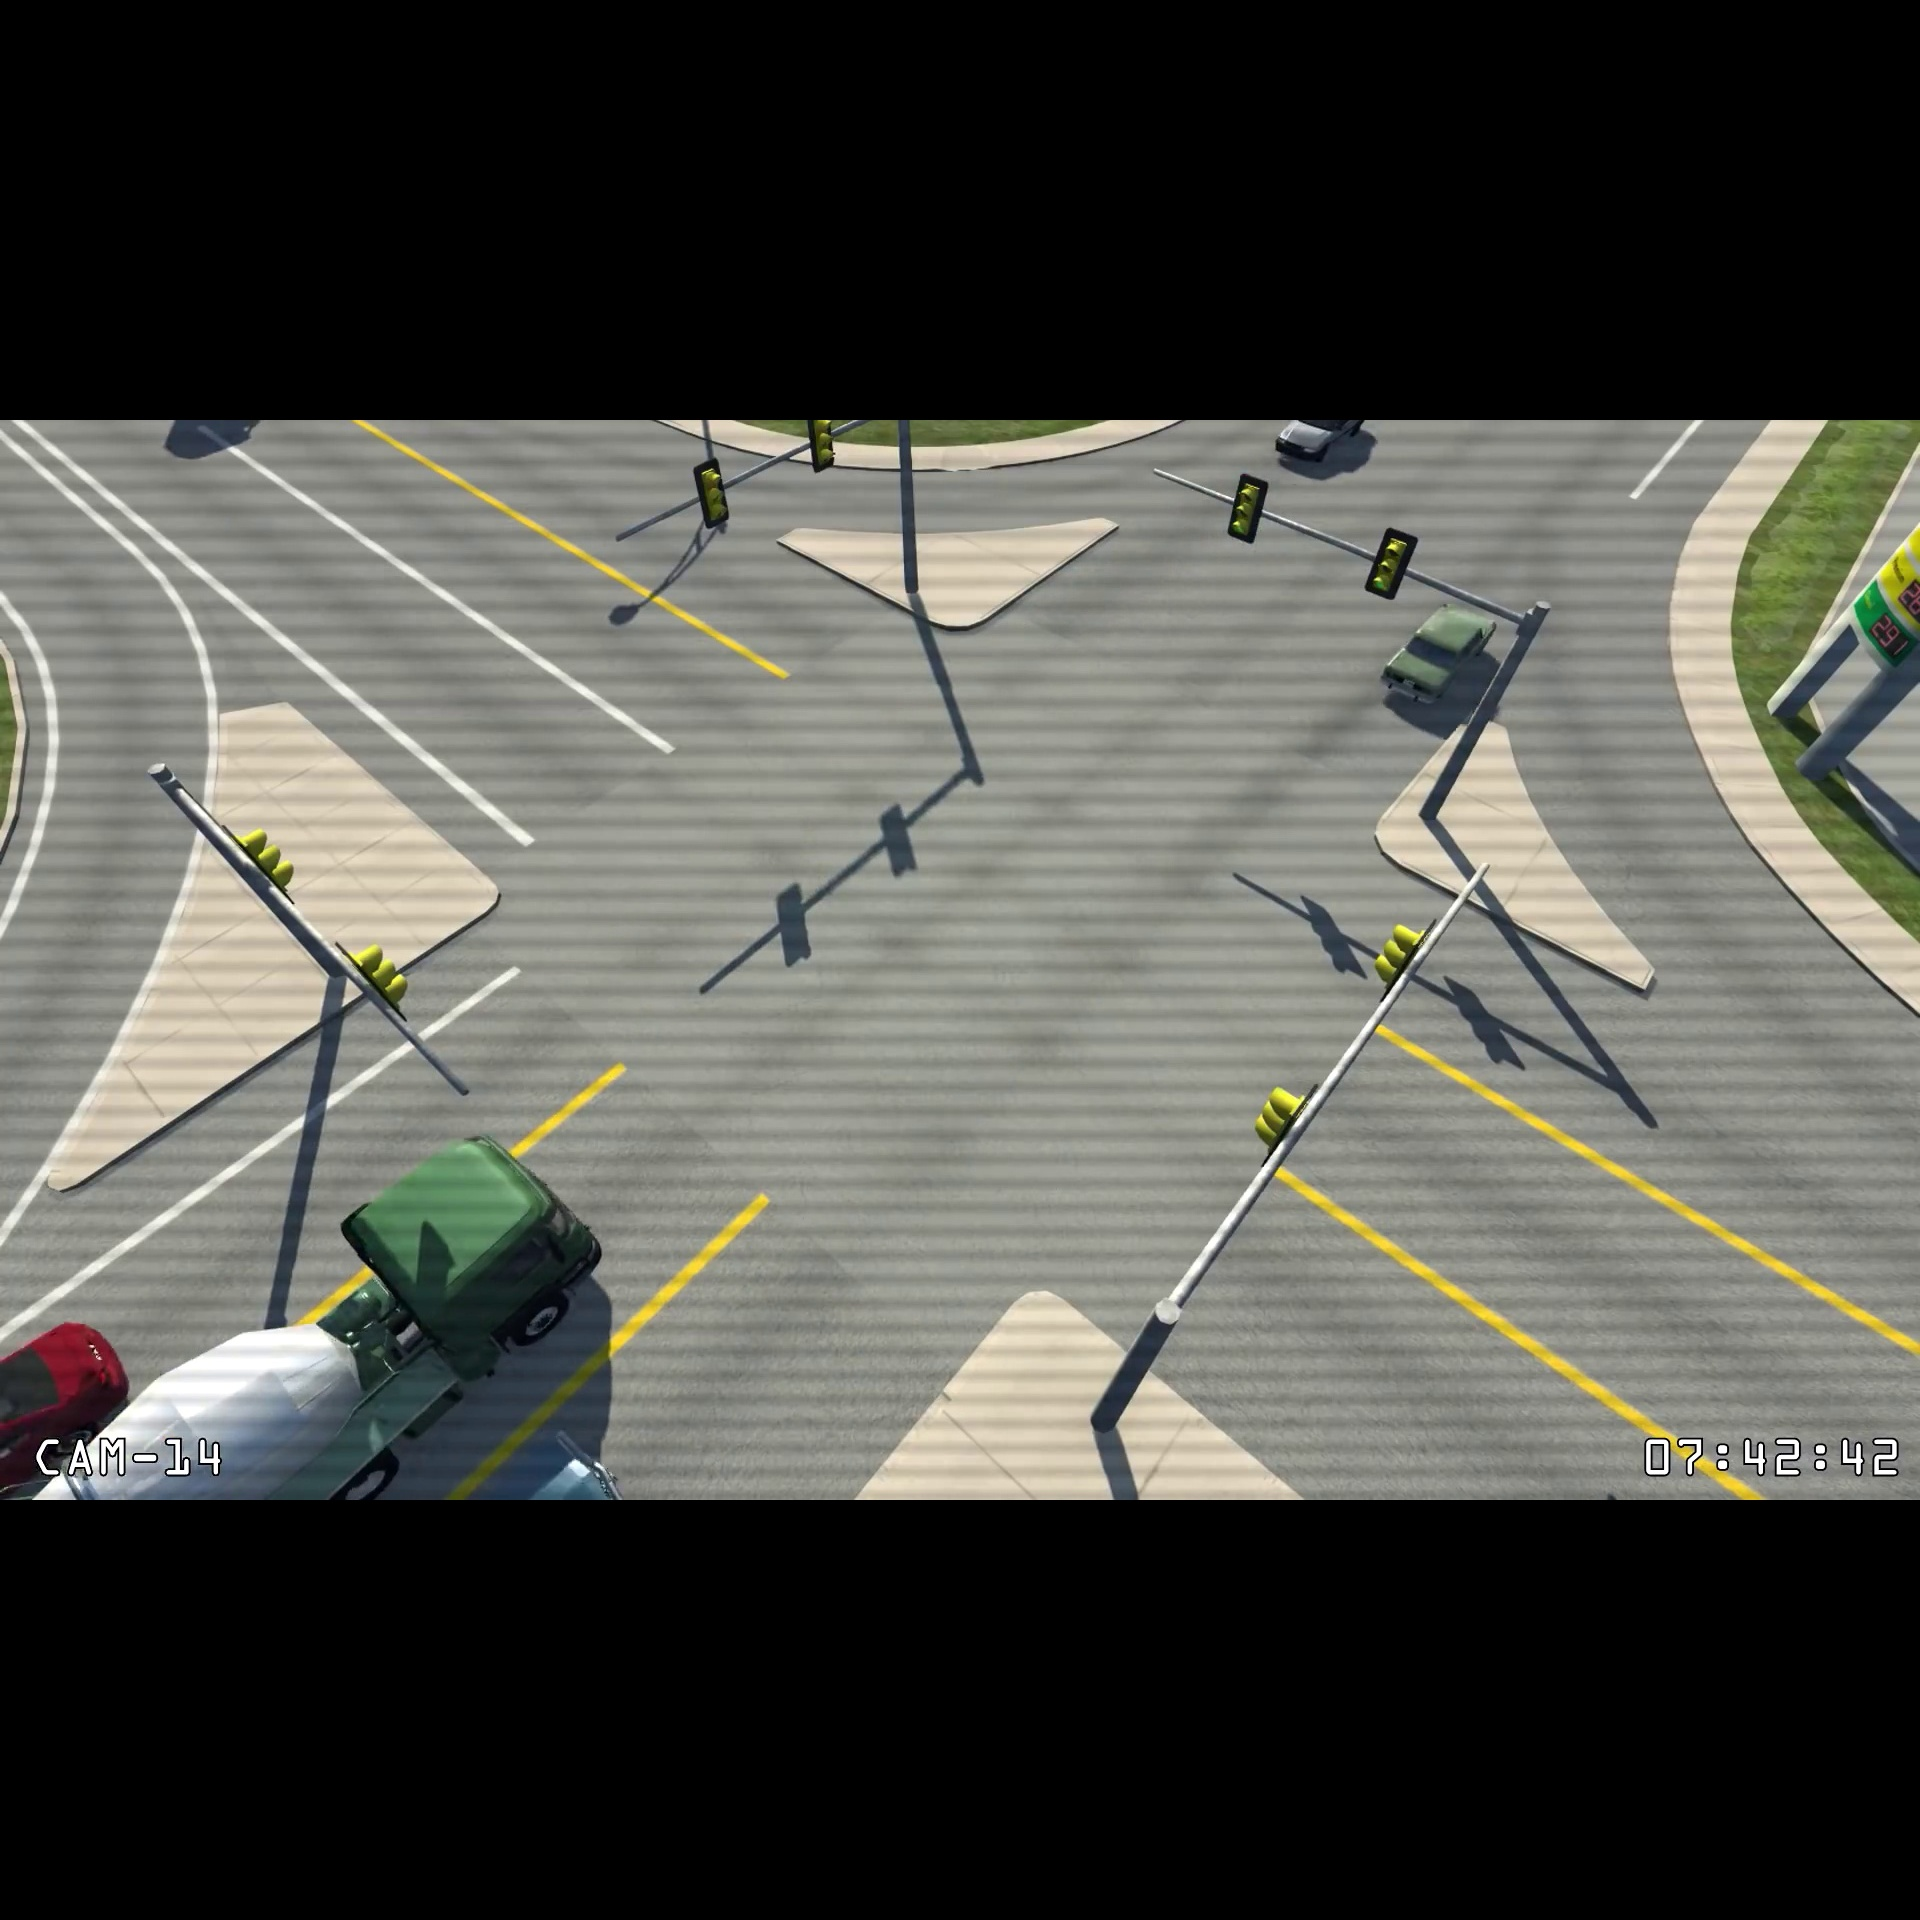vehicle: (23, 1127, 610, 1502), (1375, 594, 1507, 717), (1269, 418, 1377, 471)
